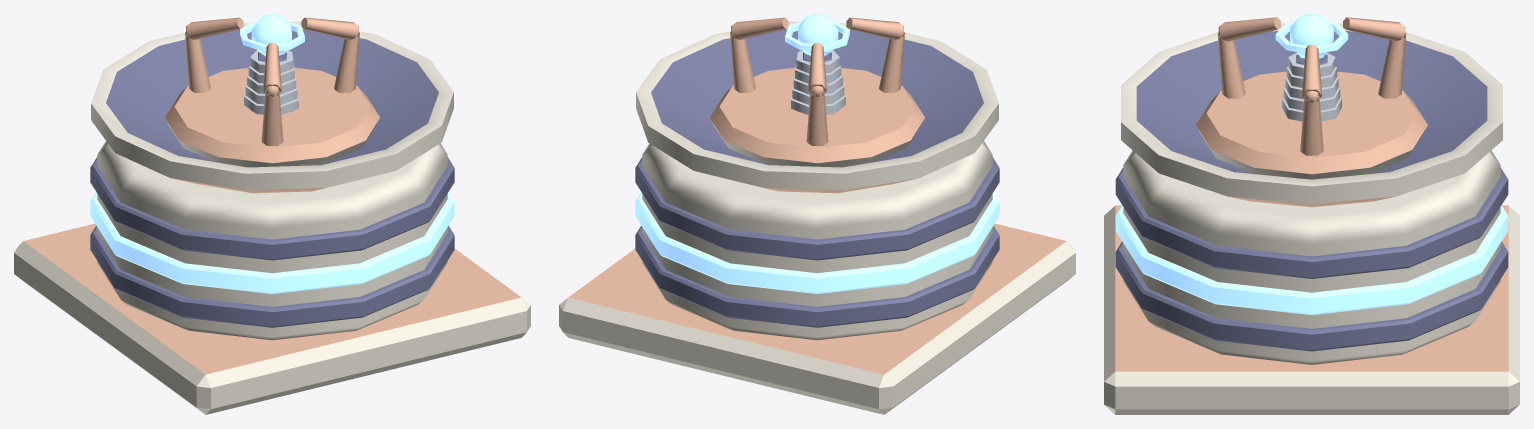
File: R4X_EMPTrapDeployer_LOD1.fbx
The picture shows the model from 3 angles, left to right: view 1: azimuth 30°, elevation 25°; view 2: azimuth 150°, elevation 25°; view 3: azimuth 270°, elevation 25°; orthographic projection. The views are drawn at different scales.
Visible parts, largest first — view 1: R4X_EMPTrapDeployer_LOD1; view 2: R4X_EMPTrapDeployer_LOD1; view 3: R4X_EMPTrapDeployer_LOD1.
Boxes of the visible parts, box(x1,y1,x2,y2) form: R4X_EMPTrapDeployer_LOD1: box(14, 14, 530, 414); R4X_EMPTrapDeployer_LOD1: box(559, 14, 1075, 414); R4X_EMPTrapDeployer_LOD1: box(1104, 14, 1519, 414).
Size of the model in its own units: 0.52 by 0.437 by 0.52.
